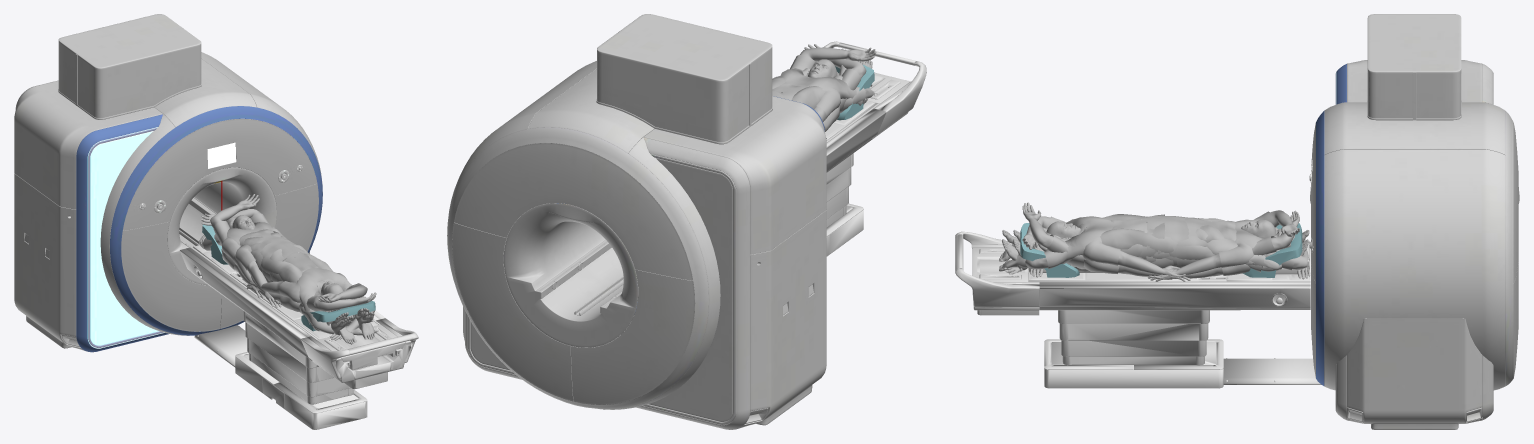
The model's file is Tom.glb.
The picture shows the model from 3 angles, left to right: view 1: azimuth 30°, elevation 25°; view 2: azimuth 150°, elevation 25°; view 3: azimuth 270°, elevation 25°; orthographic projection. The views are drawn at different scales.
Parts seen in each view (by area): view 1: Main_Body, MRI_base, MRI_bed_upDown.001, Emmisive_Panel, electricModule_geo, M3_Basemesh_geo, M3_Basemesh_geo.001, slidingTable_geo, scrubShirt_geo5, scrubShirt_geo1, scrubPants_geo7.001, M3_Basemesh_geo8 (+7 smaller); view 2: Main_Body, MRI_bed_upDown.001, MRI_base, M3_Basemesh_geo.001, scrubShirt_geo5, electricModule_geo, scrubPants_geo7.001, scrubShirt_geo1.001, slidingTable_geo, SM_head_arm_rest1.001; view 3: Main_Body, MRI_base, MRI_bed_upDown.001, slidingTable_geo, scrubPants_geo7.001, M3_Basemesh_geo, M3_Basemesh_geo.001, scrubShirt_geo1, electricModule_geo, scrubShirt_geo7, SM_head_arm_rest1, scrubShirt_geo5 (+8 smaller).
Boxes of the visible parts, x1,y1,x2,y2 form: Main_Body: (14, 14, 322, 352); MRI_base: (194, 322, 367, 429); MRI_bed_upDown.001: (179, 247, 418, 389); Emmisive_Panel: (87, 127, 164, 348); electricModule_geo: (317, 324, 405, 370); M3_Basemesh_geo: (201, 194, 369, 325); M3_Basemesh_geo.001: (313, 281, 376, 311); slidingTable_geo: (190, 245, 380, 339); scrubShirt_geo5: (276, 251, 351, 324); scrubShirt_geo1: (213, 213, 296, 273); scrubPants_geo7.001: (260, 238, 346, 297); M3_Basemesh_geo8: (247, 261, 374, 344); Main_Body: (447, 14, 826, 429); MRI_bed_upDown.001: (823, 41, 926, 184); MRI_base: (826, 167, 863, 256); M3_Basemesh_geo.001: (800, 44, 876, 78); scrubShirt_geo5: (780, 69, 862, 105); electricModule_geo: (838, 72, 910, 103); scrubPants_geo7.001: (772, 68, 842, 109); scrubShirt_geo1.001: (781, 54, 860, 109); slidingTable_geo: (825, 100, 879, 142); SM_head_arm_rest1.001: (835, 65, 874, 120); Main_Body: (1310, 14, 1519, 429); MRI_base: (1044, 323, 1321, 388); MRI_bed_upDown.001: (955, 231, 1310, 323); slidingTable_geo: (1028, 247, 1310, 282); scrubPants_geo7.001: (1060, 214, 1192, 252); M3_Basemesh_geo: (1013, 210, 1299, 257); M3_Basemesh_geo.001: (1022, 202, 1309, 254); scrubShirt_geo1: (1158, 211, 1276, 255); electricModule_geo: (972, 247, 1027, 282); scrubShirt_geo7: (1176, 217, 1250, 275); SM_head_arm_rest1: (1243, 223, 1302, 277); scrubShirt_geo5: (1044, 215, 1164, 263).
Bounding box in the file's own units: 230 × 240 × 401.
Materials: 7 (2 with a texture image).
